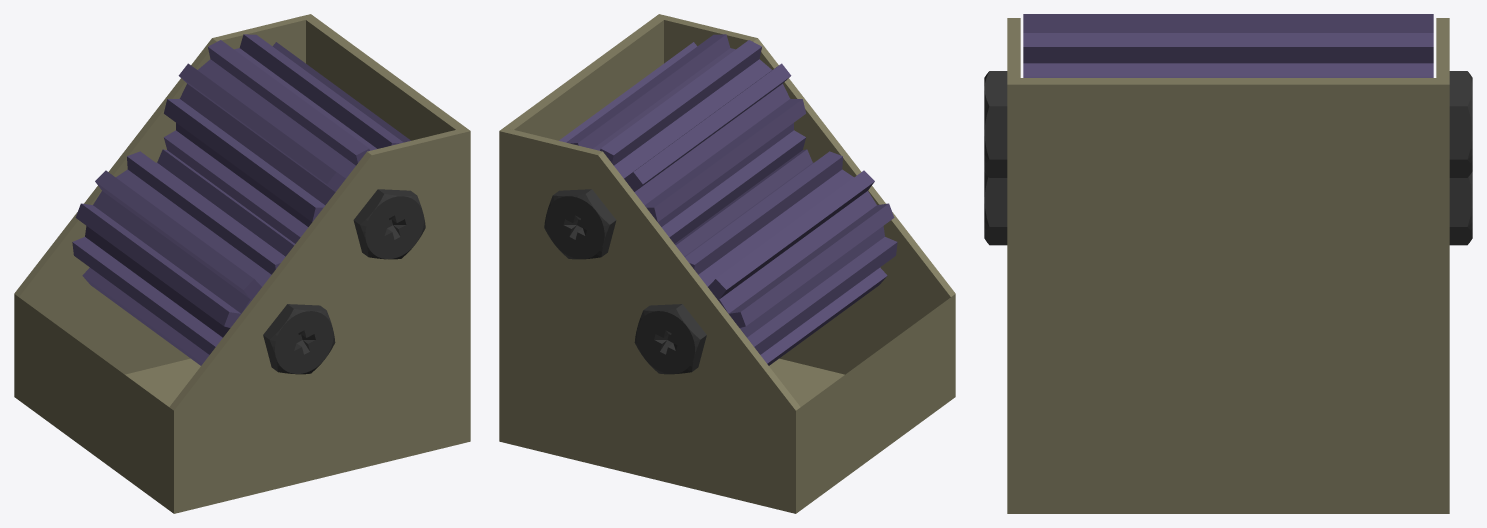
Rendered from Shredder.fbx.
The picture shows the model from 3 angles, left to right: view 1: azimuth 30°, elevation 25°; view 2: azimuth 150°, elevation 25°; view 3: azimuth 270°, elevation 25°; orthographic projection. The views are drawn at different scales.
Parts seen in each view (by area): view 1: Shredder.002, Gear.bottom.002, Gear.top.002; view 2: Shredder.002, Gear.bottom.002, Gear.top.002; view 3: Shredder.002, Gear.top.002.
Part boxes in pixels (<box>): Shredder.002: <box>14,14,470,513</box>; Gear.bottom.002: <box>72,149,295,365</box>; Gear.top.002: <box>164,34,410,243</box>; Shredder.002: <box>499,14,955,513</box>; Gear.bottom.002: <box>674,149,897,365</box>; Gear.top.002: <box>559,34,805,243</box>; Shredder.002: <box>984,18,1472,513</box>; Gear.top.002: <box>1023,14,1433,77</box>.
Size of the model in its own units: 3.09 by 3.02 by 3.
